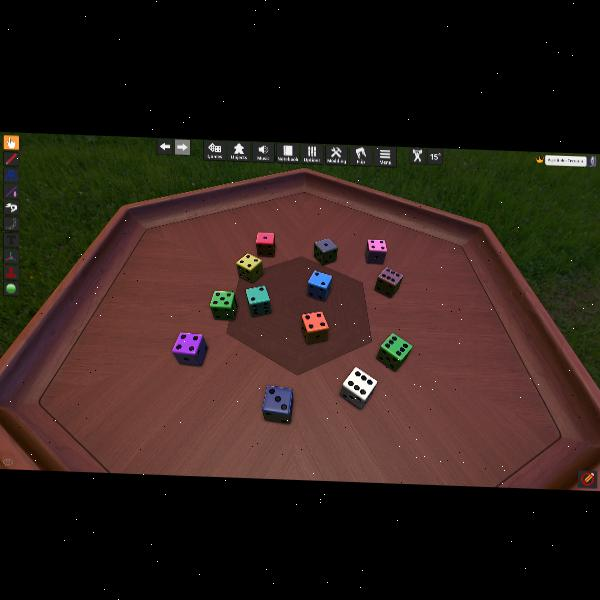d6: (341, 367, 377, 410), (376, 332, 410, 371), (172, 331, 208, 367), (262, 384, 294, 424), (375, 266, 403, 298), (245, 284, 272, 317), (301, 311, 327, 344), (235, 253, 262, 284), (209, 291, 235, 322), (308, 269, 332, 300), (314, 238, 336, 266), (366, 238, 386, 264), (256, 231, 274, 256)
